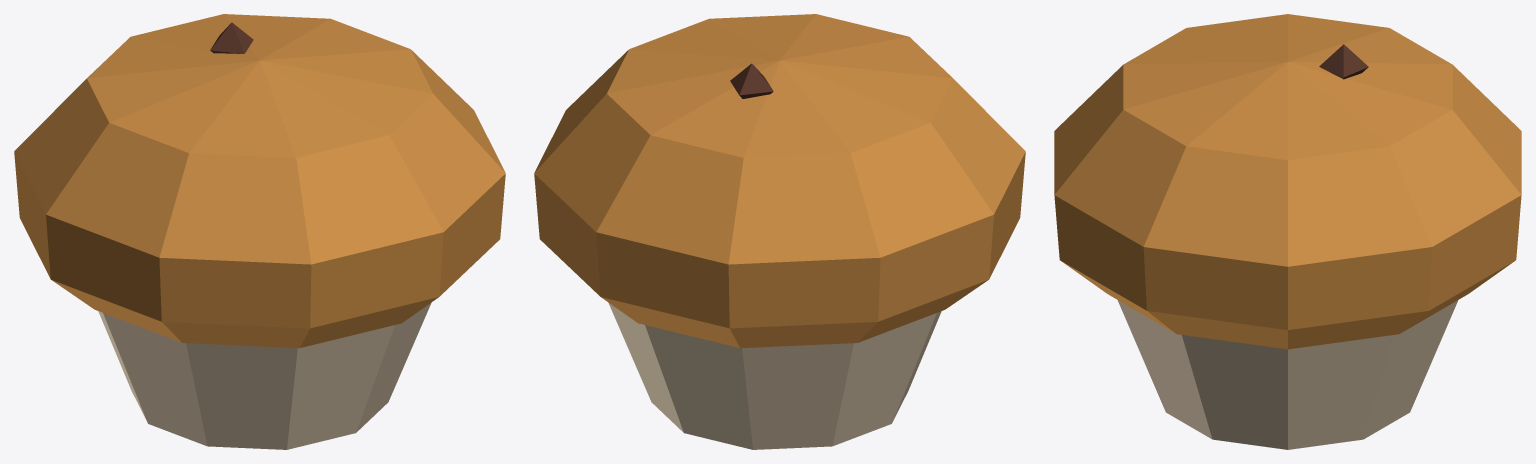
Rendered from Food_Muffin.obj.
3 views of the same model, side by side, from view 1: azimuth 30°, elevation 25°; view 2: azimuth 150°, elevation 25°; view 3: azimuth 270°, elevation 25° (orthographic).
Bounding box in the file's own units: 1.76 × 1.39 × 1.67.
